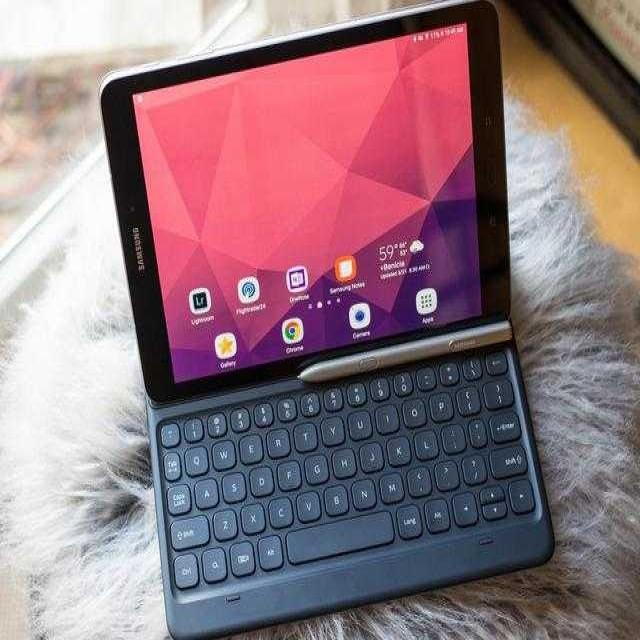keyboard: (154, 332, 556, 640)
